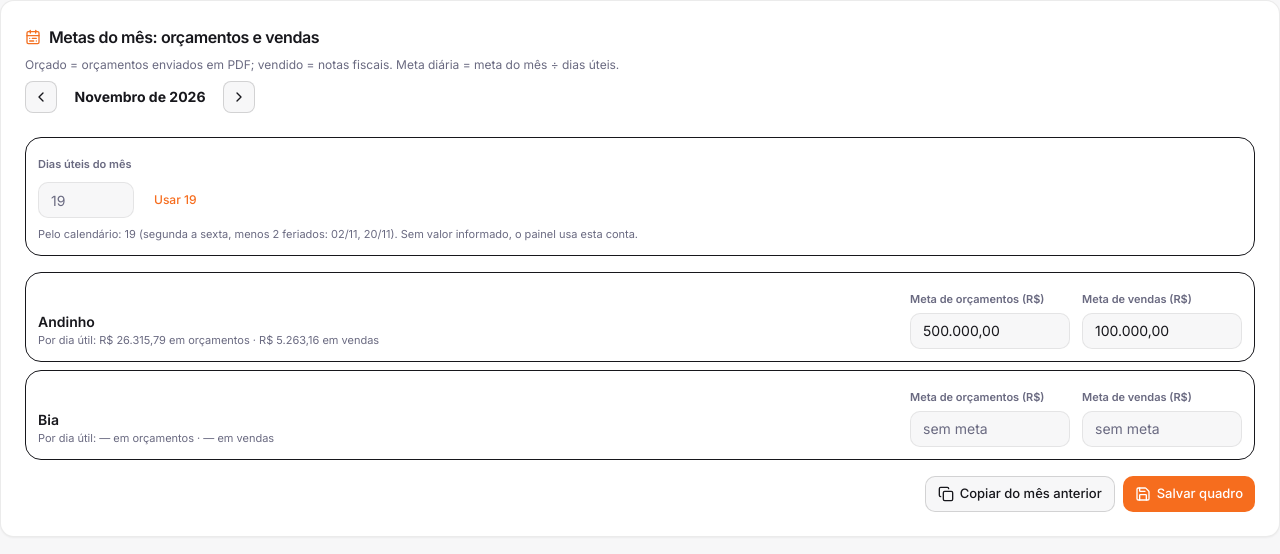
it: MonthlyGoalsBoard › copies last month's goals into the board without saving
Expected: the text "Pelo calendário: 19" is shown, [38,227,638,241]
Click the button "Copiar do mês anterior".
click(1020, 494)  # box [925,476,1115,512]
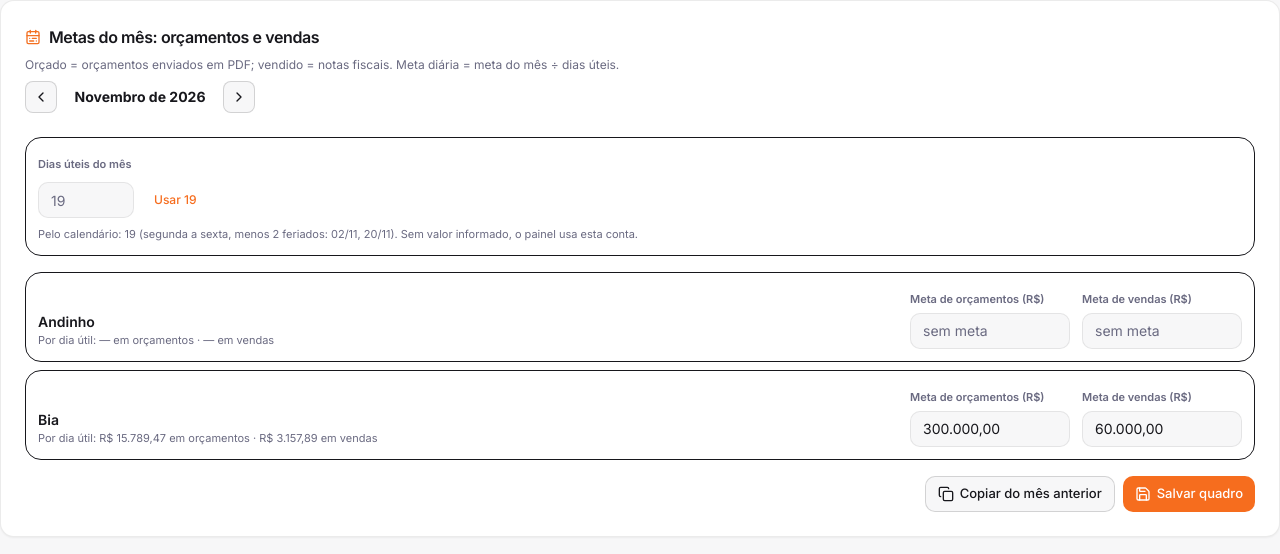
Now the field labelled "Meta de orçamentos (R$)" in the row of "R$ 3.157,89" holds "300.000,00", box [910,410,1070,446]
Now the field labelled "Meta de orçamentos (R$)" in the row of "Andinho" is empty, box [910,312,1070,348]
